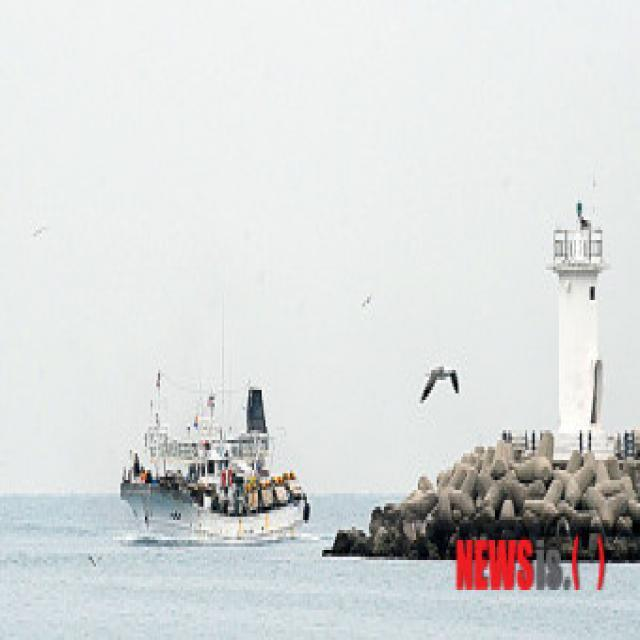Ship: (99, 352, 318, 558)
